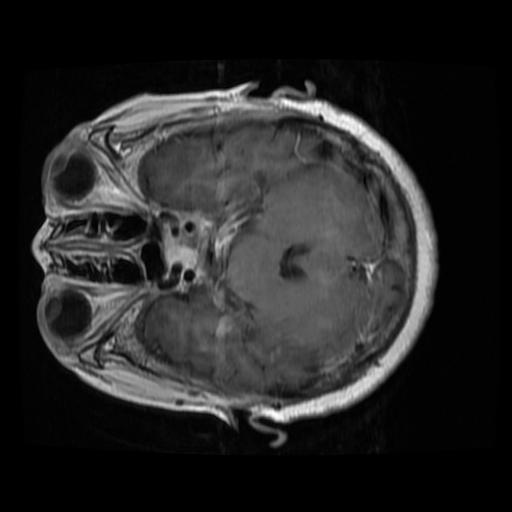pituitary tumour: (161, 236, 197, 267)
